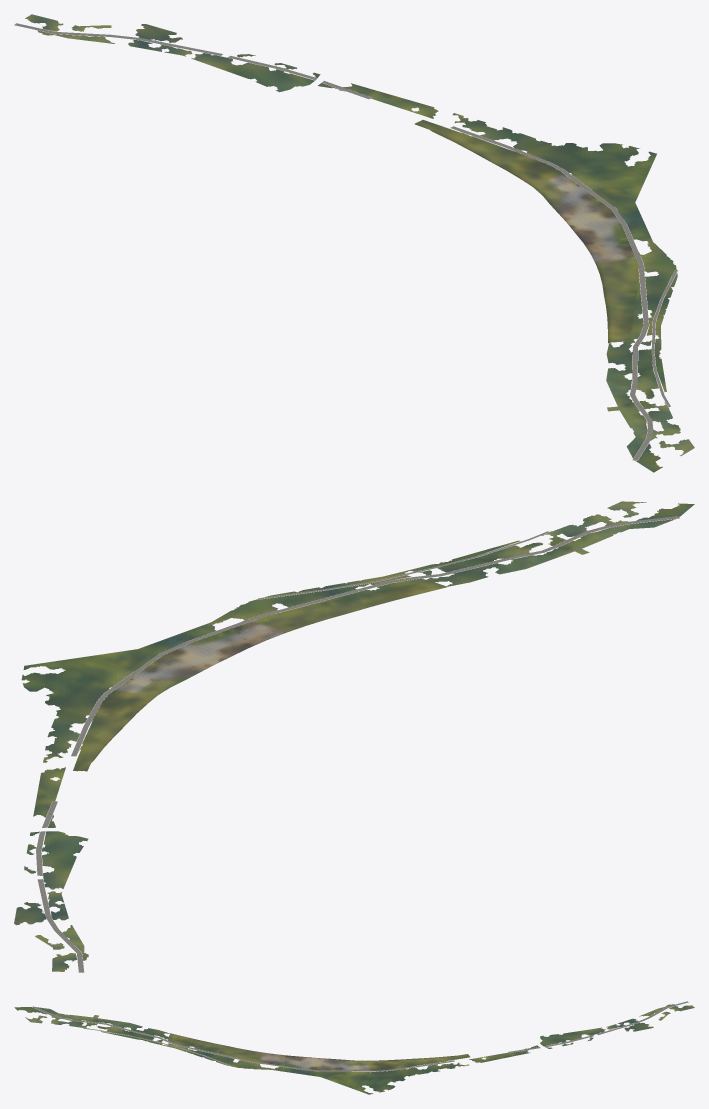
3 views of the same model, one above another, from view 1: azimuth 30°, elevation 25°; view 2: azimuth 150°, elevation 25°; view 3: azimuth 270°, elevation 25° (orthographic). The views are drawn at different scales.
Parts seen in each view (by area): view 1: Marina Promenade ground cover, Marina Promenade ground cover along the bank, Marina Promenade concrete, Marina Promenade compacted gravel along the bank; view 2: Marina Promenade ground cover, Marina Promenade ground cover along the bank, Marina Promenade concrete, Marina Promenade compacted gravel along the bank; view 3: Marina Promenade ground cover, Marina Promenade ground cover along the bank, Marina Promenade concrete, Marina Promenade compacted gravel along the bank.
Part boxes in pixels (x1=…): Marina Promenade ground cover: x1=25, y1=14, x2=694, y2=472; Marina Promenade ground cover along the bank: x1=414, y1=120, x2=640, y2=343; Marina Promenade concrete: x1=14, y1=23, x2=677, y2=460; Marina Promenade compacted gravel along the bank: x1=548, y1=175, x2=632, y2=263; Marina Promenade ground cover: x1=14, y1=501, x2=694, y2=971; Marina Promenade ground cover along the bank: x1=73, y1=580, x2=446, y2=771; Marina Promenade concrete: x1=36, y1=516, x2=679, y2=972; Marina Promenade compacted gravel along the bank: x1=116, y1=621, x2=286, y2=694; Marina Promenade ground cover: x1=14, y1=1004, x2=694, y2=1094; Marina Promenade ground cover along the bank: x1=167, y1=1033, x2=470, y2=1071; Marina Promenade concrete: x1=32, y1=1001, x2=688, y2=1071; Marina Promenade compacted gravel along the bank: x1=259, y1=1052, x2=371, y2=1070.
Bounding box in the file's own units: 283 × 0.6801 × 874.
Materials: 3 (3 with a texture image).
